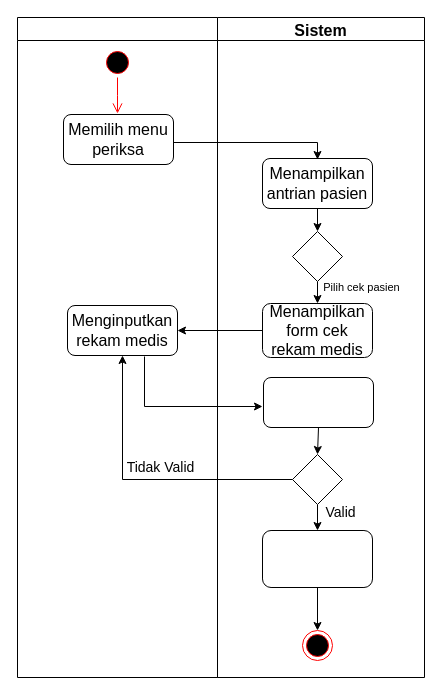
This 442x695 diagram has some shape labels left out. Each missing label, with the box of its shape:
Admin/poli: (16, 16, 218, 678)
Halaman periksa pasien sudah berobat: (262, 530, 372, 588)
Validasi form rekam medis: (262, 376, 374, 428)
